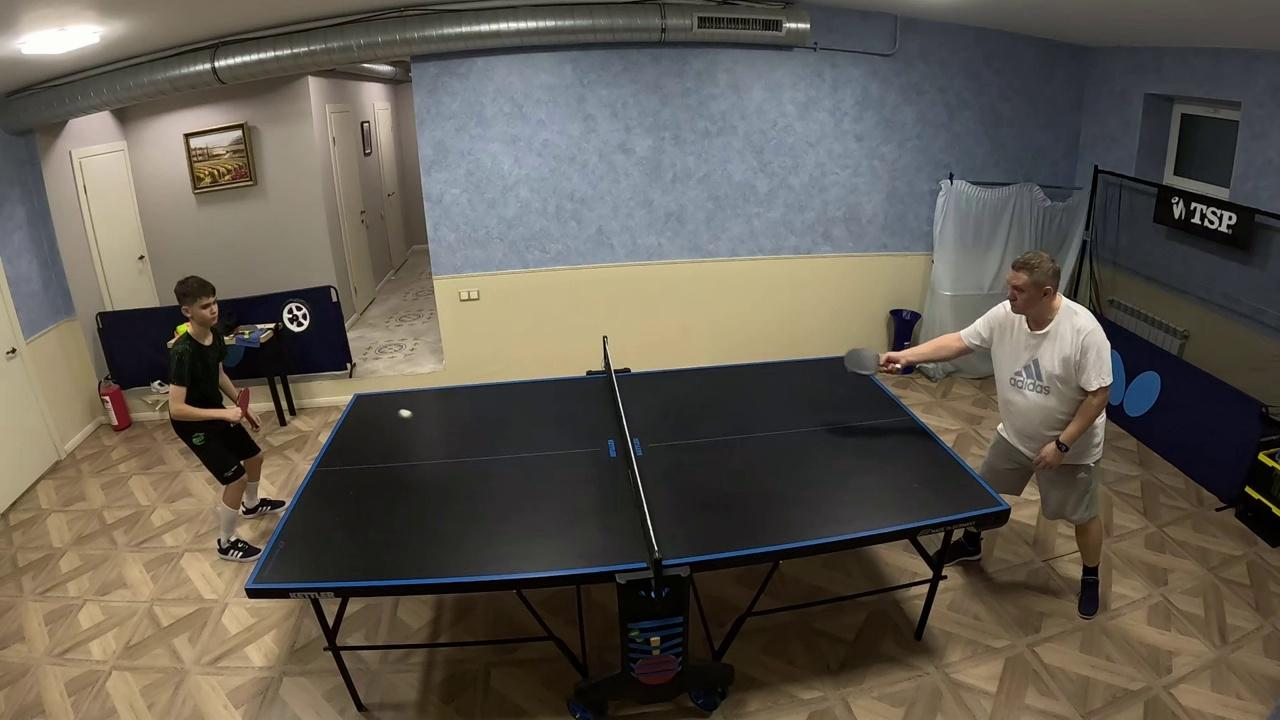Ball: (398, 407, 413, 420)
Net: (600, 336, 665, 587)
Player1: (167, 276, 262, 560)
Player2: (879, 251, 1111, 620)
Table: (617, 351, 1007, 570), (250, 372, 647, 583)
